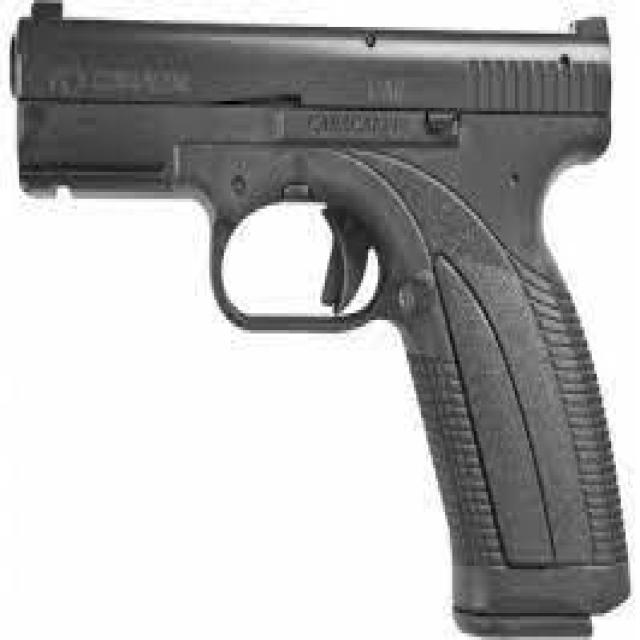Gun: (5, 1, 640, 640)
